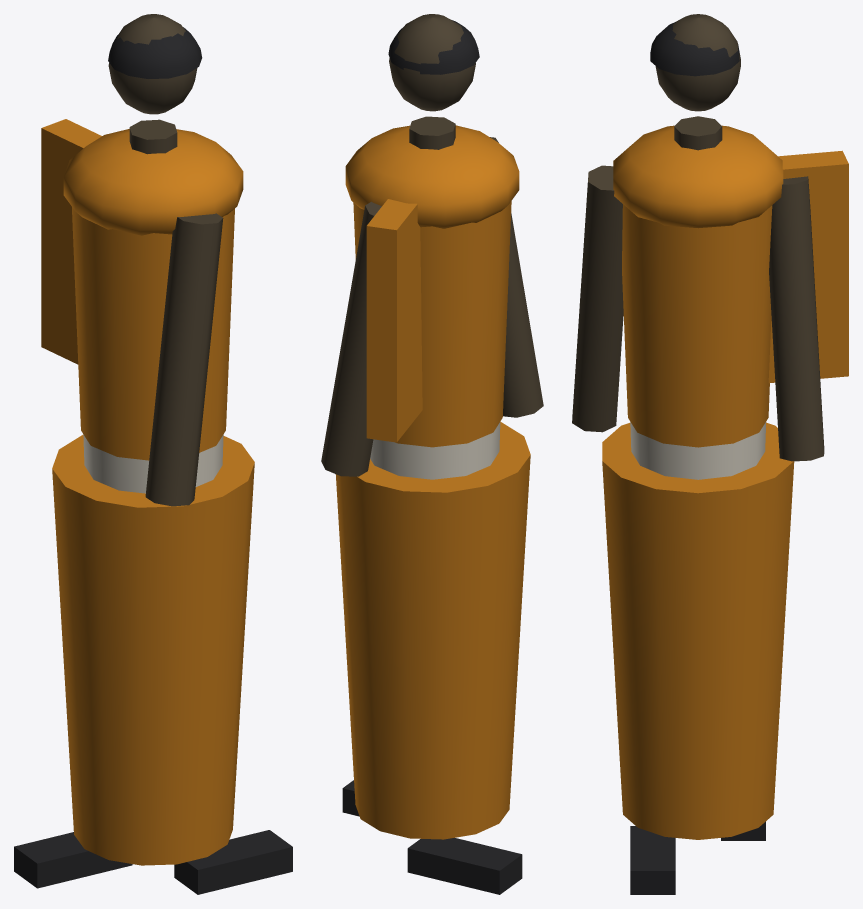
Rendered from KIT_FIGURE_6.glb.
3 views of the same model, side by side, from view 1: azimuth 30°, elevation 25°; view 2: azimuth 150°, elevation 25°; view 3: azimuth 270°, elevation 25° (orthographic). The views are drawn at different scales.
Parts seen in each view (by area): view 1: KIT_FIGURE_6; view 2: KIT_FIGURE_6; view 3: KIT_FIGURE_6.
Boxes of the visible parts, left/top/right/bottom form: KIT_FIGURE_6: left=14, top=14, right=292, bottom=894; KIT_FIGURE_6: left=321, top=14, right=543, bottom=894; KIT_FIGURE_6: left=572, top=14, right=848, bottom=894.
Bounding box in the file's own units: 0.4392 × 1.72 × 0.52.
